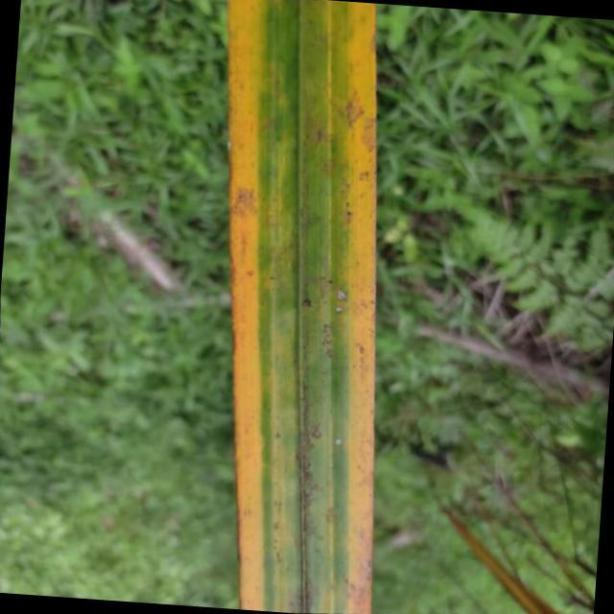Megnesium: (225, 0, 376, 614)
